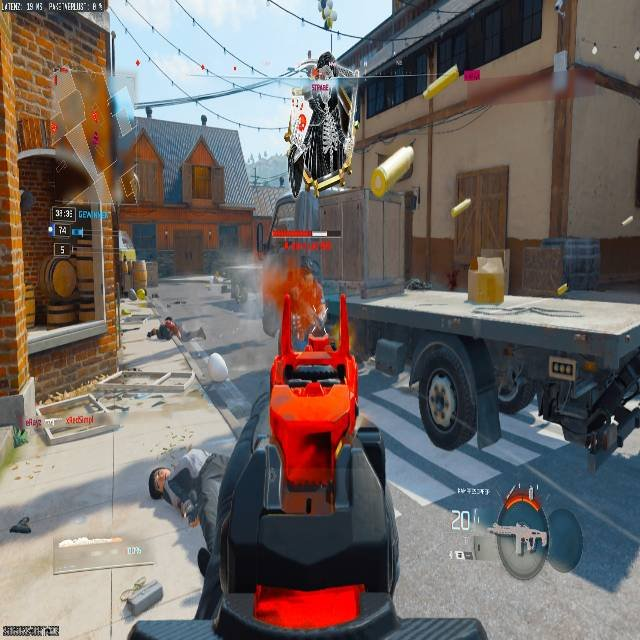head: (305, 253, 322, 279)
player: (262, 256, 325, 345)
